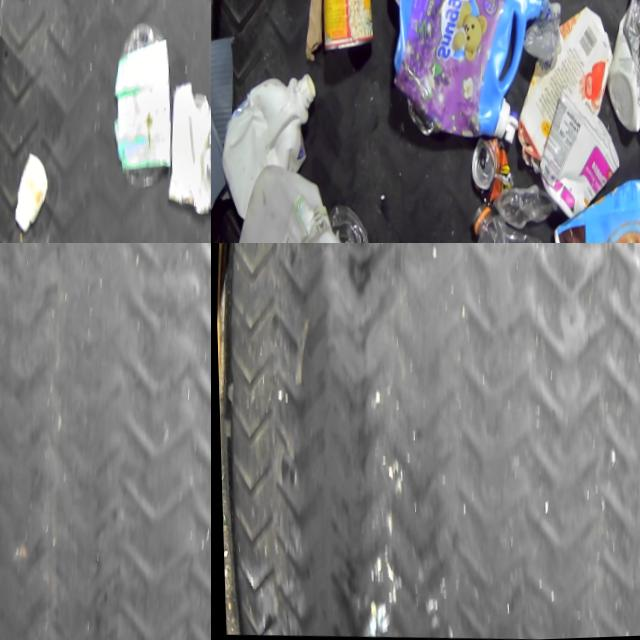can: (160, 80, 211, 219), (463, 137, 515, 210), (316, 0, 375, 54)
milk_jug: (212, 68, 318, 228), (223, 159, 334, 243)
non_white_jug: (382, 0, 549, 147), (542, 175, 640, 243)
plastic_bottle: (459, 196, 577, 243), (487, 186, 556, 233)
